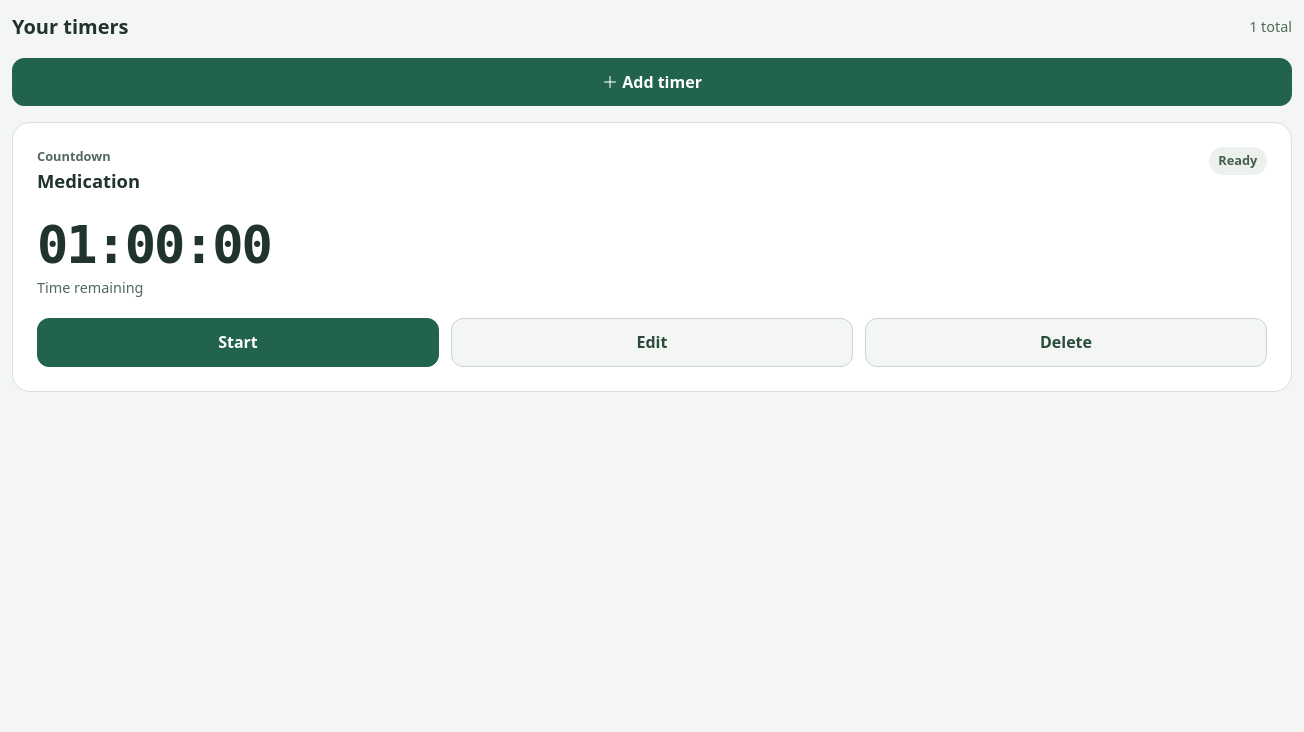
TimersContainer editing › opens a populated edit form when Edit is clicked
Click the button "Edit". click: {"x": 652, "y": 342}
box: [451,318,853,367]
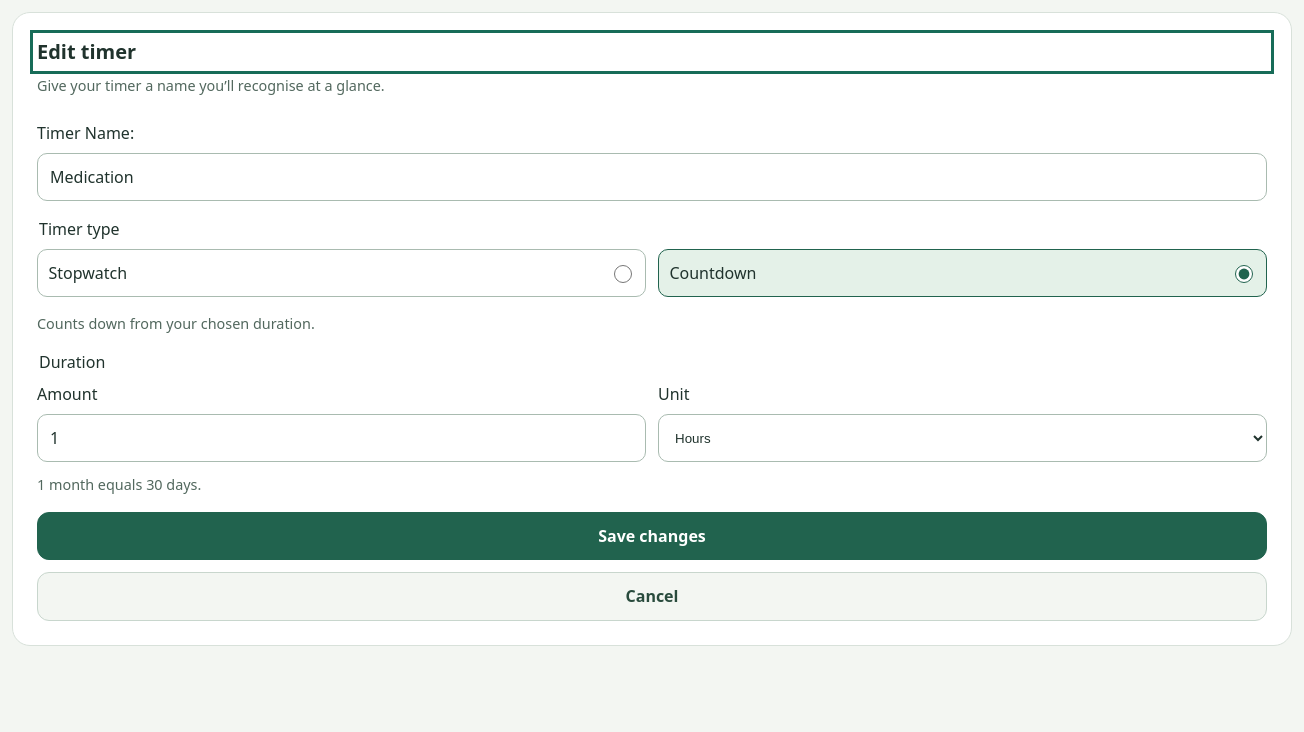
Expected: the field labelled "Timer Name:" holds "Medication", [37,153,1267,201]
Expected: the button "Add timer" is gone
Expected: the radio button labelled "Countdown" is checked, [1235,265,1253,283]
